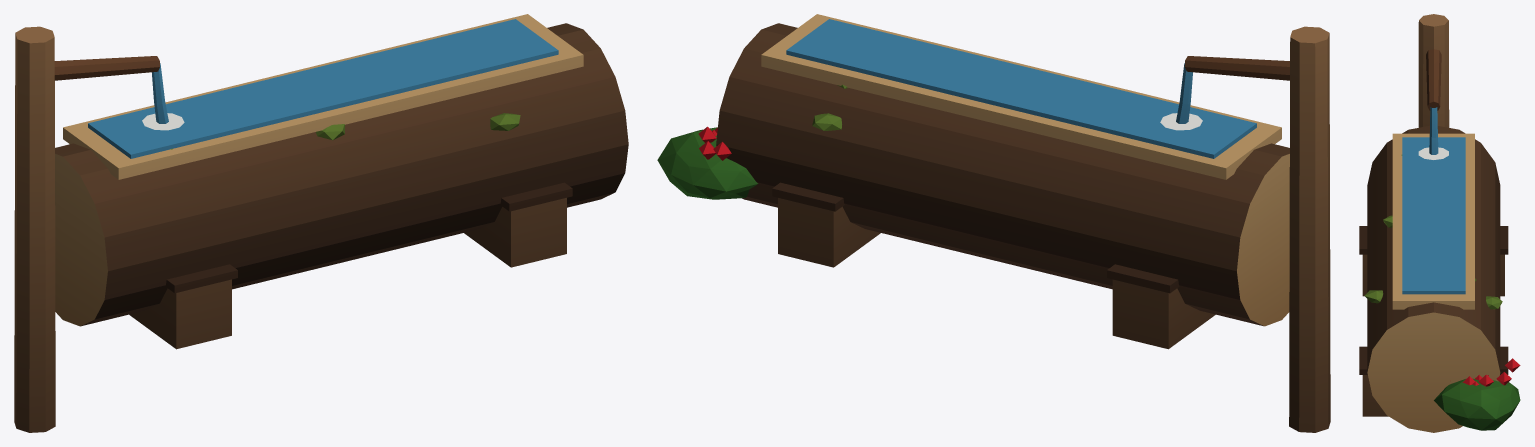
File: Trough.fbx
The picture shows the model from 3 angles, left to right: view 1: azimuth 30°, elevation 25°; view 2: azimuth 150°, elevation 25°; view 3: azimuth 270°, elevation 25°; orthographic projection. The views are drawn at different scales.
Visible parts, largest first — view 1: Trough_LOD0; view 2: Trough_LOD0; view 3: Trough_LOD0.
Boxes of the visible parts, left/top/right/bottom form: Trough_LOD0: left=14, top=14, right=628, bottom=432; Trough_LOD0: left=657, top=14, right=1330, bottom=432; Trough_LOD0: left=1359, top=14, right=1520, bottom=432.
Size of what is drawn, in the model's own units: 3.38 by 2 by 1.02.
Materials: 1 (1 with a texture image).
